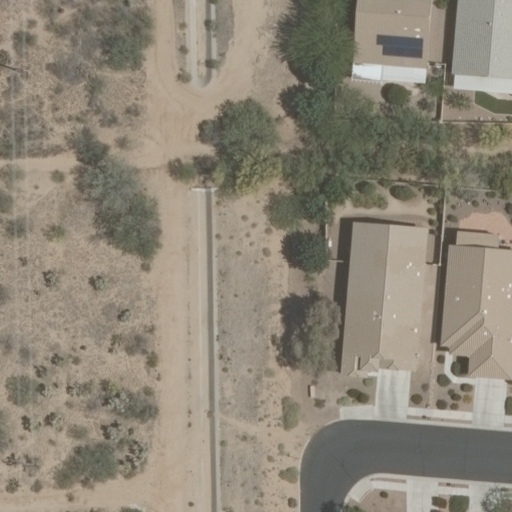DT: (2, 61, 39, 84)
